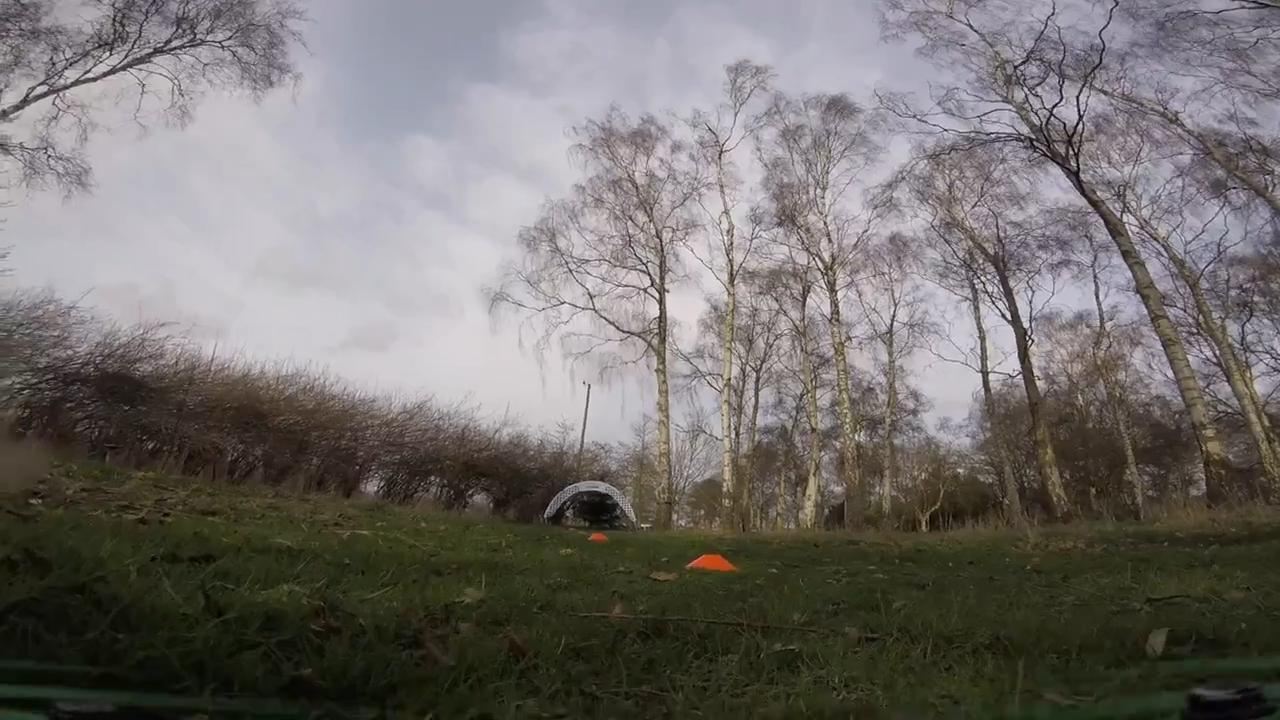gate: (541, 481, 633, 523)
